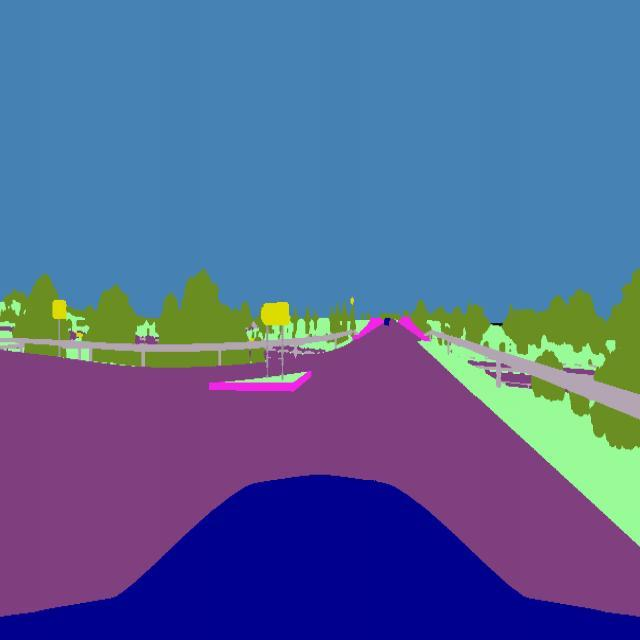safe: (382, 314, 392, 330)
